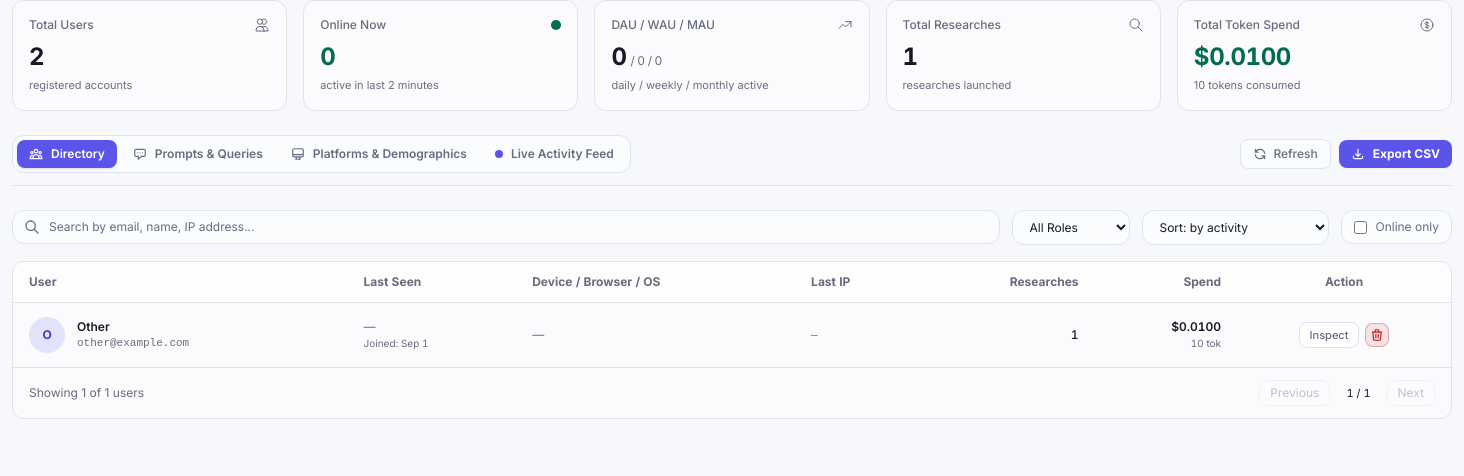
Test: admin UsersTab › shows CSV export and delete failures inline instead of alert()
Click the button "Export CSV".
click(1395, 154)  # box [1339, 140, 1452, 168]
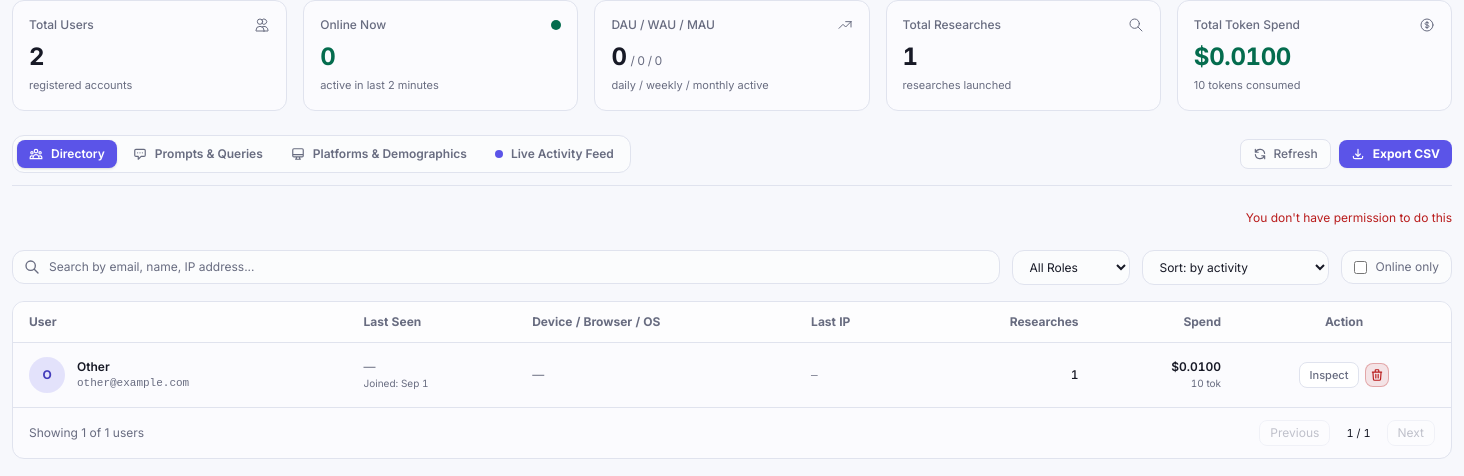
Expected: the text "You don't have permission to do this" is shown, [1246, 210, 1452, 224]
Click the button named "Delete".
click(1378, 374)  # box [1366, 362, 1390, 386]
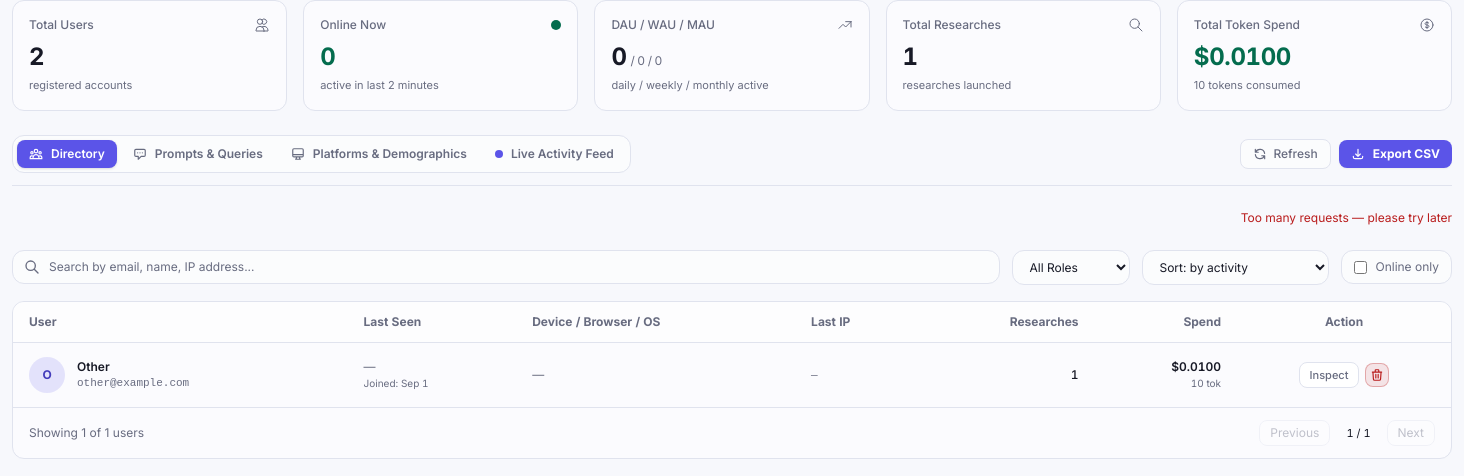
Expected: the text "Too many requests — please try later" is shown, [1241, 210, 1452, 224]
